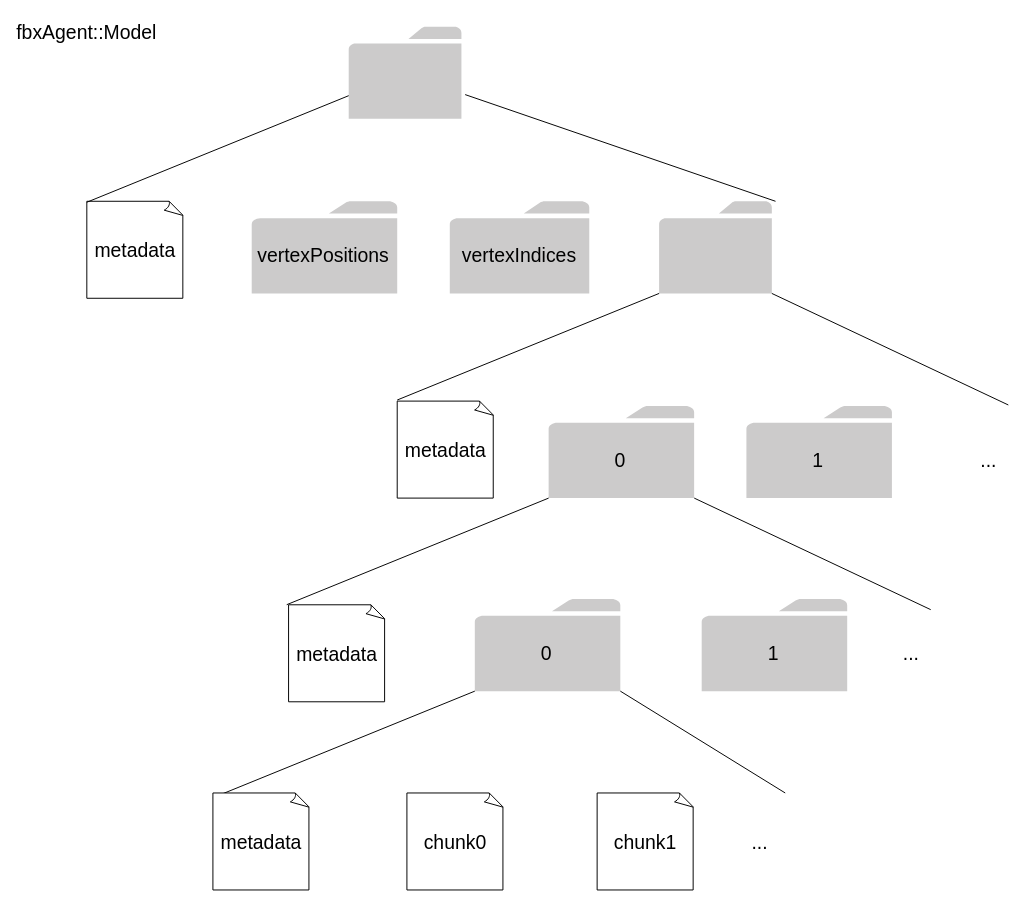
Some shapes in this 1035 by 907 pixel diagram are drawn without their labels. Here are the shapes that lost their labels. From the top down, the centre of each, then its label:
(404,72): Model
(715,247): vertexUVs
